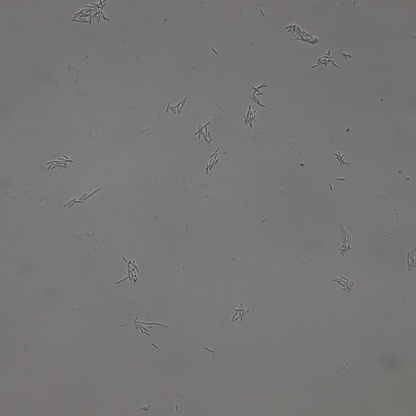R(colony): (71, 1, 112, 26), (114, 256, 140, 285), (286, 22, 319, 44), (64, 188, 101, 207), (133, 317, 170, 336), (311, 49, 339, 69), (46, 153, 73, 170), (165, 97, 187, 117), (332, 275, 355, 294), (194, 121, 213, 144), (250, 83, 268, 107), (338, 224, 351, 256), (206, 147, 222, 172), (231, 303, 250, 322), (242, 106, 258, 128), (333, 151, 350, 166)
